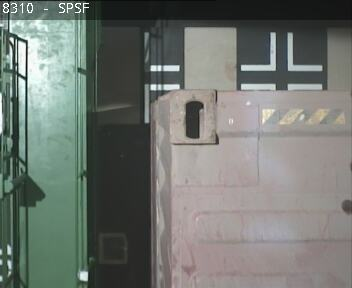groundmarker_1: (143, 30, 179, 123), (239, 33, 323, 71)
